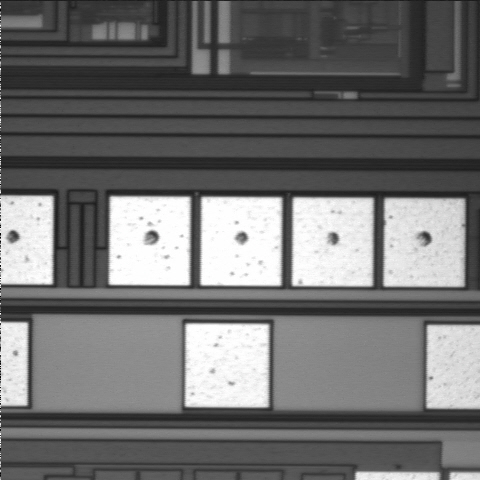pad: (200, 197, 282, 286), (109, 196, 190, 285), (292, 198, 373, 286), (384, 198, 464, 287), (185, 323, 269, 407)
